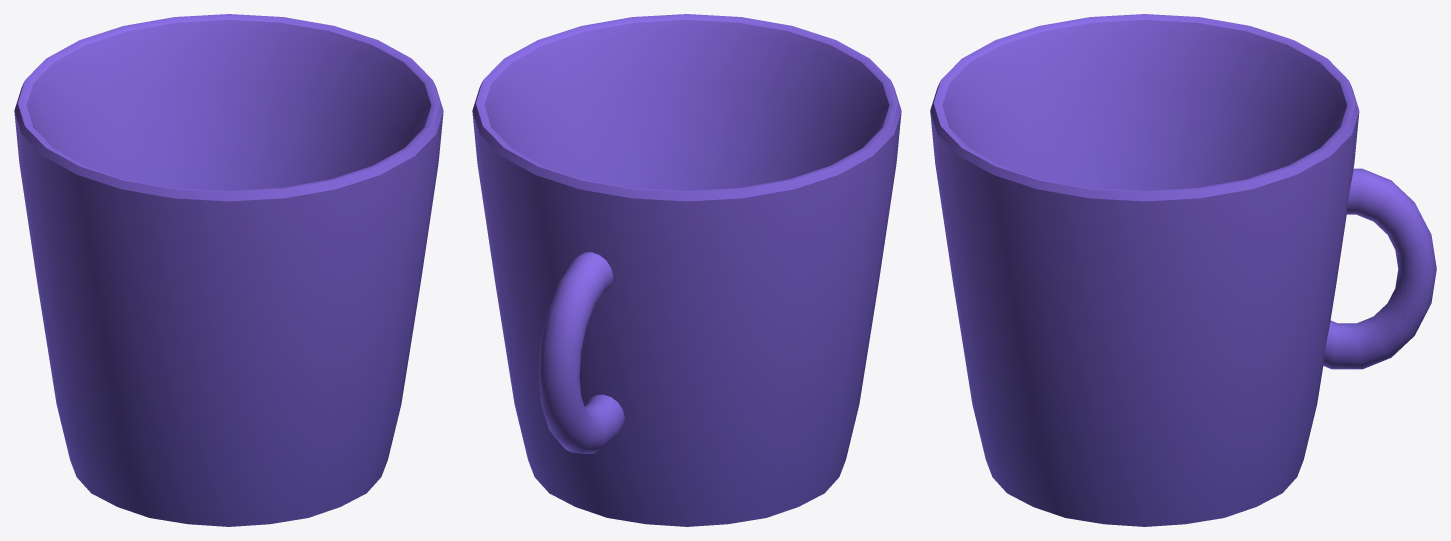
Rendered from Taza.fbx.
3 renders of one model, left to right at view 1: azimuth 30°, elevation 25°; view 2: azimuth 150°, elevation 25°; view 3: azimuth 270°, elevation 25°, orthographic.
Parts seen in each view (by area): view 1: Taza; view 2: Taza; view 3: Taza.
Boxes of the visible parts, x1=… form: Taza: x1=14, y1=14, x2=443, y2=526; Taza: x1=472, y1=14, x2=901, y2=526; Taza: x1=930, y1=14, x2=1436, y2=526.
Bounding box in the file's own units: 10.13 × 9.59 × 11.96.
